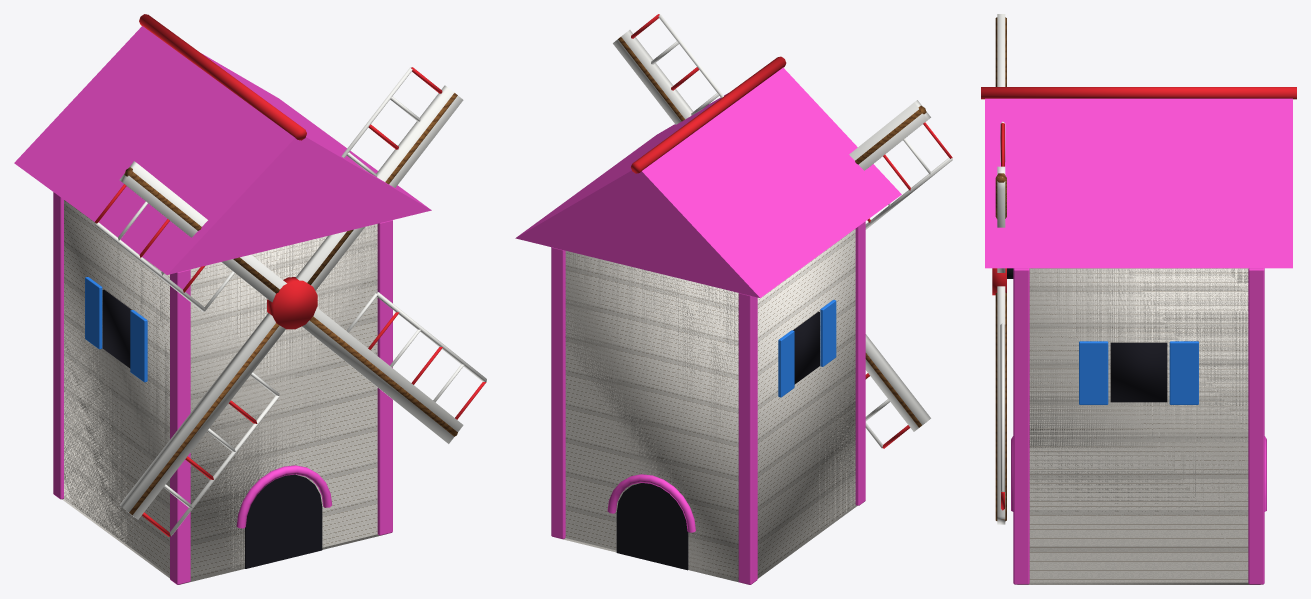
File: p_windmill.glb
3 views of the same model, side by side, from view 1: azimuth 30°, elevation 25°; view 2: azimuth 150°, elevation 25°; view 3: azimuth 270°, elevation 25° (orthographic). The views are drawn at different scales.
Visible parts, largest first — view 1: windmill_pp_pink, lod1_mesh, windmill_pp_boards, windmill_pp_dark, windmill_pp_red, windmill_pp_white, windmill_pp_wood, windmill_pp_blue; view 2: lod1_mesh, windmill_pp_pink, windmill_pp_boards, windmill_pp_dark, windmill_pp_red, windmill_pp_blue, windmill_pp_white, windmill_pp_wood; view 3: windmill_pp_pink, windmill_pp_boards, lod1_mesh, windmill_pp_red, windmill_pp_blue, windmill_pp_dark, windmill_pp_wood, windmill_pp_white.
Boxes of the visible parts, left/top/right/bottom form: windmill_pp_pink: left=14, top=26, right=431, bottom=584; lod1_mesh: left=62, top=85, right=463, bottom=584; windmill_pp_boards: left=64, top=224, right=377, bottom=575; windmill_pp_dark: left=102, top=289, right=322, bottom=568; windmill_pp_red: left=95, top=14, right=486, bottom=536; windmill_pp_white: left=94, top=67, right=486, bottom=536; windmill_pp_wood: left=124, top=93, right=457, bottom=515; windmill_pp_blue: left=85, top=277, right=147, bottom=382; lod1_mesh: left=559, top=30, right=930, bottom=584; windmill_pp_pink: left=515, top=67, right=901, bottom=584; windmill_pp_boards: left=565, top=251, right=855, bottom=576; windmill_pp_dark: left=616, top=311, right=819, bottom=570; windmill_pp_red: left=631, top=14, right=952, bottom=448; windmill_pp_blue: left=778, top=299, right=836, bottom=397; windmill_pp_white: left=651, top=14, right=952, bottom=448; windmill_pp_wood: left=618, top=37, right=926, bottom=427; windmill_pp_pink: left=985, top=98, right=1292, bottom=584; windmill_pp_boards: left=1029, top=268, right=1248, bottom=582; lod1_mesh: left=997, top=14, right=1260, bottom=584; windmill_pp_red: left=981, top=87, right=1296, bottom=510; windmill_pp_blue: left=1079, top=341, right=1198, bottom=404; windmill_pp_dark: left=1007, top=268, right=1167, bottom=402; windmill_pp_wood: left=995, top=17, right=1006, bottom=521; windmill_pp_white: left=1000, top=121, right=1005, bottom=491.
Bounding box in the file's own units: 5.63 × 6.41 × 3.9.
7 materials, 2 textured.
